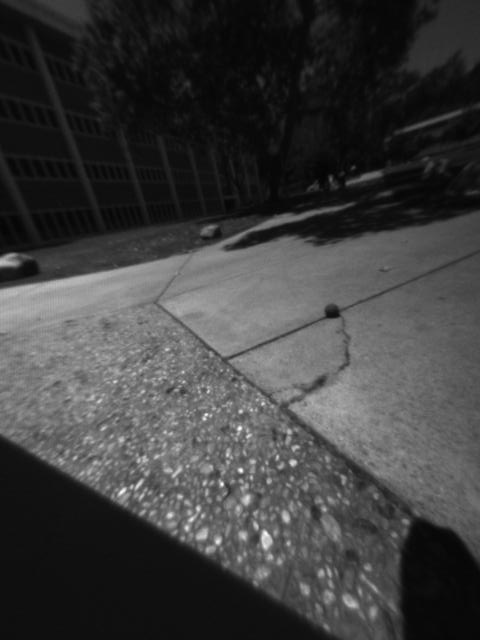dogtoy: (317, 296, 350, 324)
